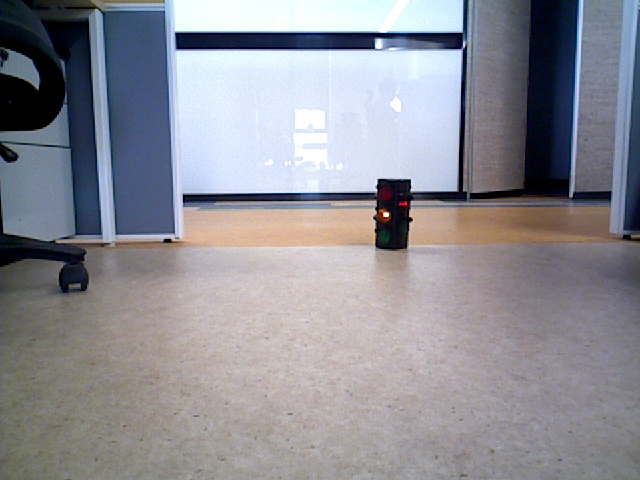yellow: (377, 180, 405, 244)
